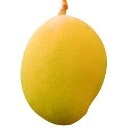mango: (20, 1, 108, 125)
